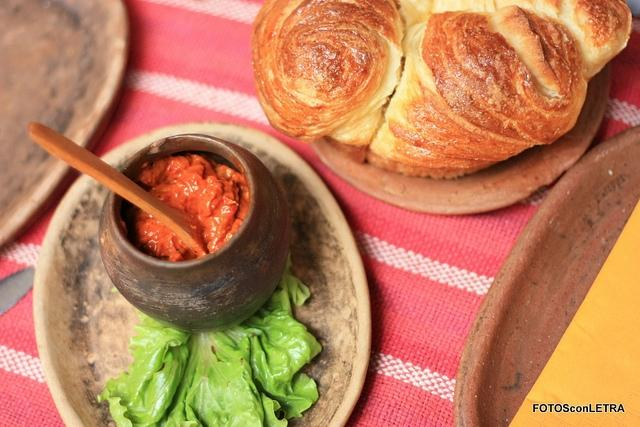lettuce: (164, 332, 264, 426), (264, 248, 310, 318)
